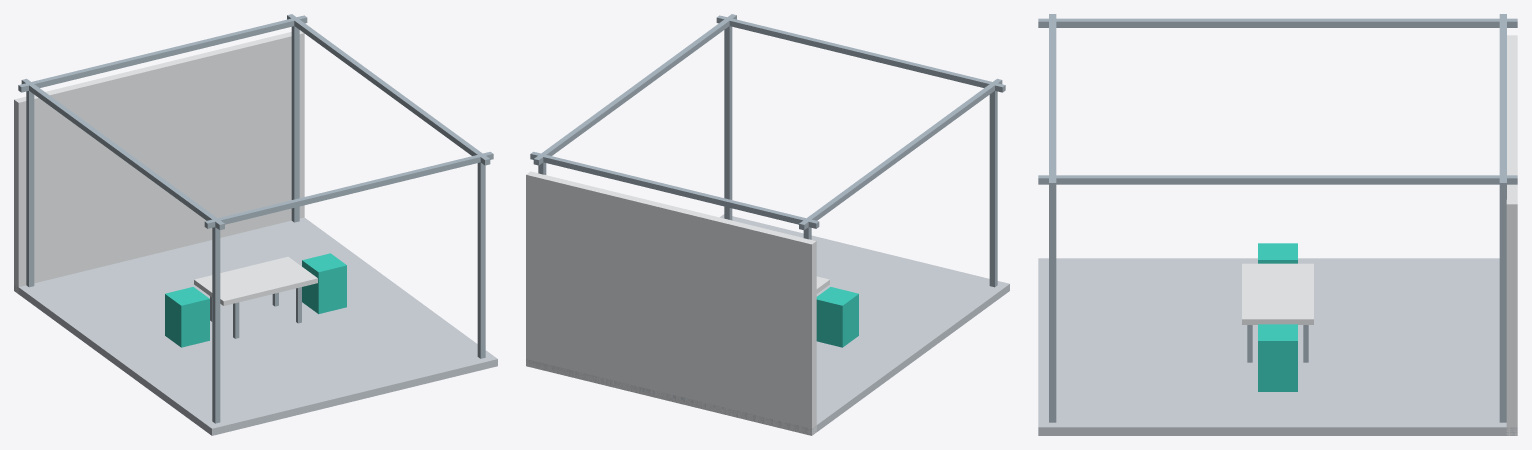
3 views of the same model, side by side, from view 1: azimuth 30°, elevation 25°; view 2: azimuth 150°, elevation 25°; view 3: azimuth 270°, elevation 25° (orthographic). The views are drawn at different scales.
Parts seen in each view (by area): view 1: Exhibition Booth Concept; view 2: Exhibition Booth Concept; view 3: Exhibition Booth Concept.
Boxes of the visible parts, left/top/right/bottom form: Exhibition Booth Concept: left=14, top=14, right=497, bottom=435; Exhibition Booth Concept: left=526, top=14, right=1009, bottom=435; Exhibition Booth Concept: left=1038, top=14, right=1517, bottom=435.
Size of the model in its own units: 5 by 3.49 by 6.
